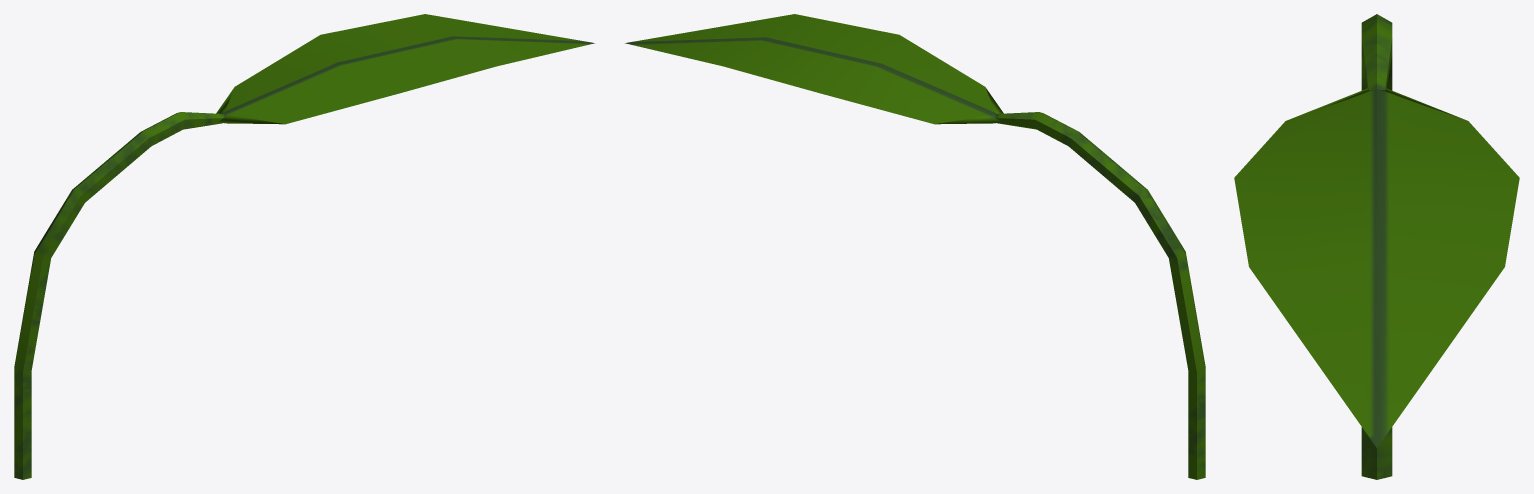
The model's file is LeafPlatform001.obj.
3 renders of one model, left to right at view 1: azimuth 30°, elevation 25°; view 2: azimuth 150°, elevation 25°; view 3: azimuth 270°, elevation 25°, orthographic. The views are drawn at different scales.
Parts seen in each view (by area): view 1: pCylinder4; view 2: pCylinder4; view 3: pCylinder4.
Boxes of the visible parts, x1,y1,x2,y2 form: pCylinder4: (14, 14, 594, 479); pCylinder4: (625, 14, 1205, 479); pCylinder4: (1234, 14, 1519, 479).
Bounding box in the file's own units: 11.36 × 6.24 × 2.7.
